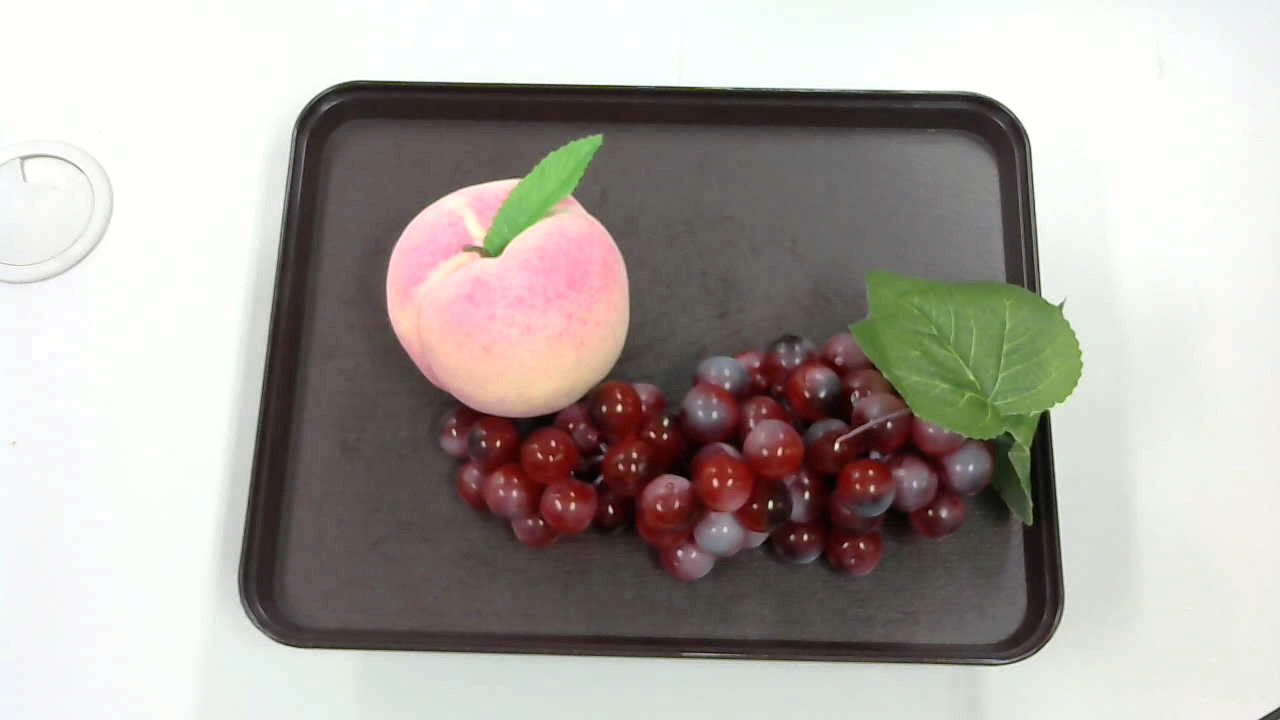grape: (435, 273, 1076, 588)
peach: (374, 135, 630, 408)
